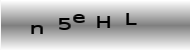5: (57, 17, 71, 30)
H: (95, 15, 111, 29)
L: (125, 11, 137, 26)
e: (72, 13, 85, 23)
n: (30, 24, 43, 35)
